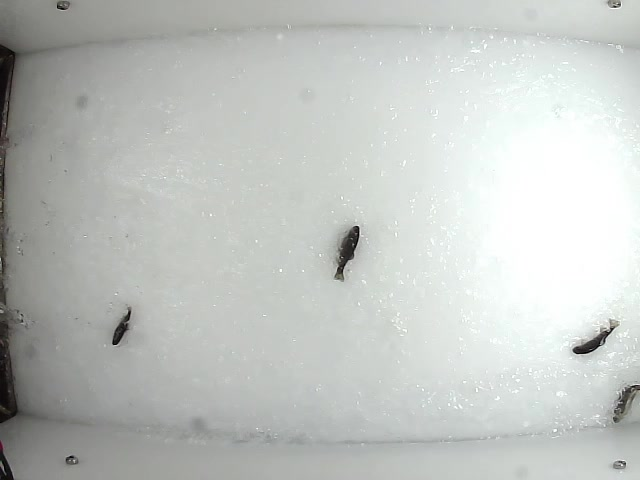fish: (569, 315, 619, 356), (334, 221, 360, 284), (609, 383, 640, 426), (110, 304, 135, 347)
